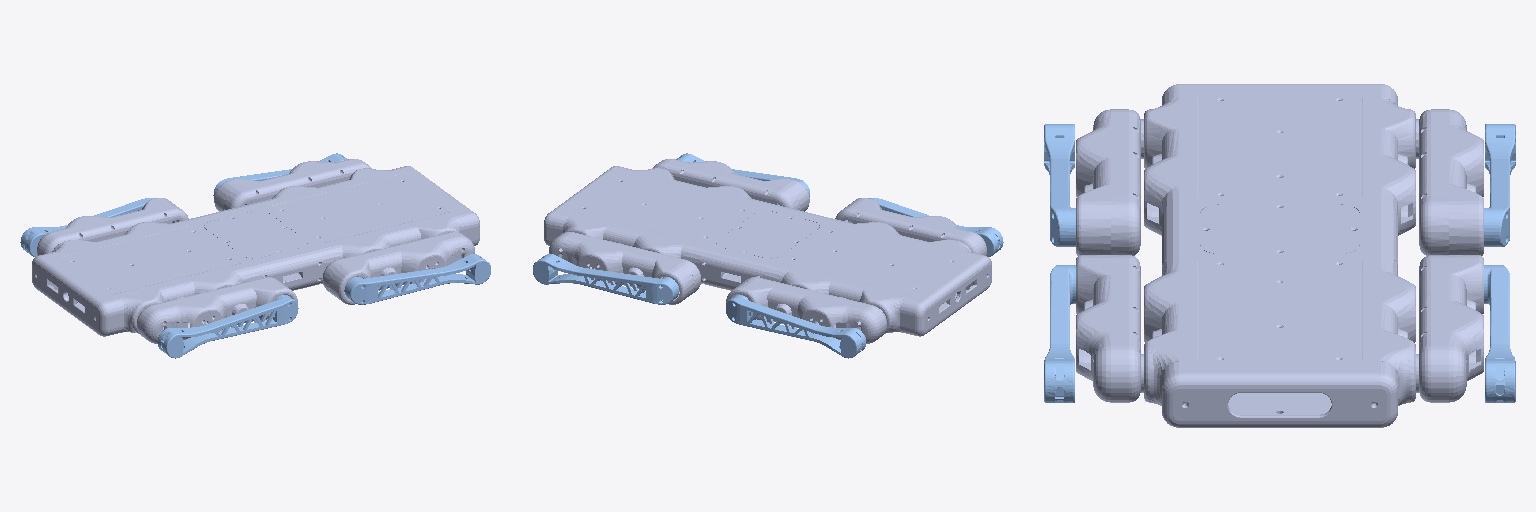
URDF robot description (quadruped_model):
<?xml version="1.0"?>
<!-- This URDF was automatically created by SolidWorks to URDF Exporter! Originally created by [author] ([email redacted]) 
     Commit Version: 1.6.0-4-g7f85cfe  Build Version: 1.6.7995.38578
     For more information, please see http://wiki.ros.org/sw_urdf_exporter -->
<robot
  name="quadruped_model">
  <link
    name="base_link">
    <inertial>
      <origin
        xyz="-0.000327075344292646 5.887146671546E-08 0.0001873336015729"
        rpy="0 0 0" />
      <mass
        value="1.97175001857781" />
      <inertia
        ixx="0.00413387278213243"
        ixy="-1.56194941232084E-09"
        ixz="-1.96374205989058E-08"
        iyy="0.00605141396216075"
        iyz="-3.45220573999436E-07"
        izz="0.00928842475387559" />
    </inertial>
    <visual>
      <origin
        xyz="0 0 0"
        rpy="0 0 0" />
      <geometry>
        <mesh
          filename="package://quadruped_model/meshes/base_link.STL" />
      </geometry>
      <material
        name="">
        <color
          rgba="0.792156862745098 0.819607843137255 0.933333333333333 1" />
      </material>
    </visual>
    <collision>
      <origin
        xyz="0 0 0"
        rpy="0 0 0" />
      <geometry>
        <mesh
          filename="package://quadruped_model/meshes/base_link.STL" />
      </geometry>
    </collision>
  </link>
  <link
    name="leg_FR_link">
    <inertial>
      <origin
        xyz="-0.0826857446272123 -0.000241480390849952 8.61590309820734E-06"
        rpy="0 0 0" />
      <mass
        value="0.178221234723265" />
      <inertia
        ixx="8.7774873338312E-05"
        ixy="-8.34374726245329E-05"
        ixz="1.21556979202137E-07"
        iyy="0.000765734511756799"
        iyz="-3.67993252244105E-09"
        izz="0.000759166889022901" />
    </inertial>
    <visual>
      <origin
        xyz="0 0 0"
        rpy="0 0 0" />
      <geometry>
        <mesh
          filename="package://quadruped_model/meshes/leg_FR_link.STL" />
      </geometry>
      <material
        name="">
        <color
          rgba="0.792156862745098 0.819607843137255 0.933333333333333 1" />
      </material>
    </visual>
    <collision>
      <origin
        xyz="0 0 0"
        rpy="0 0 0" />
      <geometry>
        <mesh
          filename="package://quadruped_model/meshes/leg_FR_link.STL" />
      </geometry>
    </collision>
  </link>
  <joint
    name="leg_FR_joint"
    type="continuous">
    <origin
      xyz="0.23462 -0.13975 0.00072724"
      rpy="0 0 0" />
    <parent
      link="base_link" />
    <child
      link="leg_FR_link" />
    <axis
      xyz="0 1 0" />
  </joint>
  <link
    name="foot_FR_link">
    <inertial>
      <origin
        xyz="0.092342 -0.0053069 -0.0035803"
        rpy="0 0 0" />
      <mass
        value="0.083275" />
      <inertia
        ixx="1.7371E-05"
        ixy="2.5453E-05"
        ixz="1.755E-05"
        iyy="0.00046982"
        iyz="-9.8665E-07"
        izz="0.0004723" />
    </inertial>
    <visual>
      <origin
        xyz="0 0 0"
        rpy="0 0 0" />
      <geometry>
        <mesh
          filename="package://quadruped_model/meshes/foot_FR_link.STL" />
      </geometry>
      <material
        name="">
        <color
          rgba="0.66667 0.81569 1 1" />
      </material>
    </visual>
    <collision>
      <origin
        xyz="0 0 0"
        rpy="0 0 0" />
      <geometry>
        <mesh
          filename="package://quadruped_model/meshes/foot_FR_link.STL" />
      </geometry>
    </collision>
  </link>
  <joint
    name="foot_FRjoint"
    type="continuous">
    <origin
      xyz="-0.18217 -0.037449 0.00020128"
      rpy="0 0 0" />
    <parent
      link="leg_FR_link" />
    <child
      link="foot_FR_link" />
    <axis
      xyz="0 -1 0" />
  </joint>
  <link
    name="leg_FL_link">
    <inertial>
      <origin
        xyz="-0.082685744626397 0.000241480390992359 -8.61590307097999E-06"
        rpy="0 0 0" />
      <mass
        value="0.178221234721523" />
      <inertia
        ixx="8.77748733384301E-05"
        ixy="8.34374726246232E-05"
        ixz="-1.21556978984504E-07"
        iyy="0.000765734511753433"
        iyz="-3.679932508201E-09"
        izz="0.00075916688901959" />
    </inertial>
    <visual>
      <origin
        xyz="0 0 0"
        rpy="0 0 0" />
      <geometry>
        <mesh
          filename="package://quadruped_model/meshes/leg_FL_link.STL" />
      </geometry>
      <material
        name="">
        <color
          rgba="0.792156862745098 0.819607843137255 0.933333333333333 1" />
      </material>
    </visual>
    <collision>
      <origin
        xyz="0 0 0"
        rpy="0 0 0" />
      <geometry>
        <mesh
          filename="package://quadruped_model/meshes/leg_FL_link.STL" />
      </geometry>
    </collision>
  </link>
  <joint
    name="leg_FL_joint"
    type="continuous">
    <origin
      xyz="0.23462 0.13975 0.00072724"
      rpy="0 0 0" />
    <parent
      link="base_link" />
    <child
      link="leg_FL_link" />
    <axis
      xyz="0 -1 0" />
  </joint>
  <link
    name="foot_FL_link">
    <inertial>
      <origin
        xyz="0.0923409137149193 0.00530689069377432 -0.00360725485860733"
        rpy="0 0 0" />
      <mass
        value="0.0832749977968765" />
      <inertia
        ixx="1.73992269374018E-05"
        ixy="-2.54522432243975E-05"
        ixz="1.79119469155073E-05"
        iyy="0.000469818870025904"
        iyz="9.94489245925805E-07"
        izz="0.000472270332573074" />
    </inertial>
    <visual>
      <origin
        xyz="0 0 0"
        rpy="0 0 0" />
      <geometry>
        <mesh
          filename="package://quadruped_model/meshes/foot_FL_link.STL" />
      </geometry>
      <material
        name="">
        <color
          rgba="0.666666666666667 0.815686274509804 1 1" />
      </material>
    </visual>
    <collision>
      <origin
        xyz="0 0 0"
        rpy="0 0 0" />
      <geometry>
        <mesh
          filename="package://quadruped_model/meshes/foot_FL_link.STL" />
      </geometry>
    </collision>
  </link>
  <joint
    name="foot_FL_joint"
    type="continuous">
    <origin
      xyz="-0.18217 0.037449 0.00020125"
      rpy="0 0 0" />
    <parent
      link="leg_FL_link" />
    <child
      link="foot_FL_link" />
    <axis
      xyz="0 1 0" />
  </joint>
  <link
    name="leg_BR_link">
    <inertial>
      <origin
        xyz="0.0826857447177423 -0.000241480460783455 -8.61590779272468E-06"
        rpy="0 0 0" />
      <mass
        value="0.178221234390122" />
      <inertia
        ixx="8.77748726433444E-05"
        ixy="8.34374721917653E-05"
        ixz="1.2155695333197E-07"
        iyy="0.000765734511459626"
        iyz="3.67997204974431E-09"
        izz="0.000759166888033231" />
    </inertial>
    <visual>
      <origin
        xyz="0 0 0"
        rpy="0 0 0" />
      <geometry>
        <mesh
          filename="package://quadruped_model/meshes/leg_BR_link.STL" />
      </geometry>
      <material
        name="">
        <color
          rgba="0.792156862745098 0.819607843137255 0.933333333333333 1" />
      </material>
    </visual>
    <collision>
      <origin
        xyz="0 0 0"
        rpy="0 0 0" />
      <geometry>
        <mesh
          filename="package://quadruped_model/meshes/leg_BR_link.STL" />
      </geometry>
    </collision>
  </link>
  <joint
    name="leg_BR_joint"
    type="continuous">
    <origin
      xyz="-0.23338 -0.13975 0.00072724"
      rpy="0 0 0" />
    <parent
      link="base_link" />
    <child
      link="leg_BR_link" />
    <axis
      xyz="0 1 0" />
  </joint>
  <link
    name="foot_BR_link">
    <inertial>
      <origin
        xyz="-0.0923409140339695 -0.00530689070203466 -0.00360725491622341"
        rpy="0 0 0" />
      <mass
        value="0.083274998233357" />
      <inertia
        ixx="1.73992270015404E-05"
        ixy="-2.54522432933655E-05"
        ixz="-1.79119472244808E-05"
        iyy="0.000469818871794177"
        iyz="-9.94489258429288E-07"
        izz="0.000472270334294119" />
    </inertial>
    <visual>
      <origin
        xyz="0 0 0"
        rpy="0 0 0" />
      <geometry>
        <mesh
          filename="package://quadruped_model/meshes/foot_BR_link.STL" />
      </geometry>
      <material
        name="">
        <color
          rgba="0.666666666666667 0.815686274509804 1 1" />
      </material>
    </visual>
    <collision>
      <origin
        xyz="0 0 0"
        rpy="0 0 0" />
      <geometry>
        <mesh
          filename="package://quadruped_model/meshes/foot_BR_link.STL" />
      </geometry>
    </collision>
  </link>
  <joint
    name="foot_BR_joint"
    type="continuous">
    <origin
      xyz="0.18217 -0.037449 0.00020125"
      rpy="0 0 0" />
    <parent
      link="leg_BR_link" />
    <child
      link="foot_BR_link" />
    <axis
      xyz="0 -1 0" />
  </joint>
  <link
    name="leg_BL_link">
    <inertial>
      <origin
        xyz="0.0826857447177424 0.000241480460783372 8.61590779267177E-06"
        rpy="0 0 0" />
      <mass
        value="0.178221234390122" />
      <inertia
        ixx="8.77748726430811E-05"
        ixy="-8.34374721917668E-05"
        ixz="-1.21556953330775E-07"
        iyy="0.000765734511459625"
        iyz="3.6799720498976E-09"
        izz="0.000759166888032966" />
    </inertial>
    <visual>
      <origin
        xyz="0 0 0"
        rpy="0 0 0" />
      <geometry>
        <mesh
          filename="package://quadruped_model/meshes/leg_BL_link.STL" />
      </geometry>
      <material
        name="">
        <color
          rgba="0.792156862745098 0.819607843137255 0.933333333333333 1" />
      </material>
    </visual>
    <collision>
      <origin
        xyz="0 0 0"
        rpy="0 0 0" />
      <geometry>
        <mesh
          filename="package://quadruped_model/meshes/leg_BL_link.STL" />
      </geometry>
    </collision>
  </link>
  <joint
    name="leg_BL_joint"
    type="continuous">
    <origin
      xyz="-0.23338 0.13975 0.00072724"
      rpy="0 0 0" />
    <parent
      link="base_link" />
    <child
      link="leg_BL_link" />
    <axis
      xyz="0 -1 0" />
  </joint>
  <link
    name="foot_BL_link">
    <inertial>
      <origin
        xyz="-0.0923419406342053 0.00530688967822675 -0.00358028192965327"
        rpy="0 0 0" />
      <mass
        value="0.0832749890421821" />
      <inertia
        ixx="1.73709950239305E-05"
        ixy="2.54525599387942E-05"
        ixz="-1.75497249118956E-05"
        iyy="0.000469818716337466"
        iyz="9.86649841263403E-07"
        izz="0.000472298412305655" />
    </inertial>
    <visual>
      <origin
        xyz="0 0 0"
        rpy="0 0 0" />
      <geometry>
        <mesh
          filename="package://quadruped_model/meshes/foot_BL_link.STL" />
      </geometry>
      <material
        name="">
        <color
          rgba="0.666666666666667 0.815686274509804 1 1" />
      </material>
    </visual>
    <collision>
      <origin
        xyz="0 0 0"
        rpy="0 0 0" />
      <geometry>
        <mesh
          filename="package://quadruped_model/meshes/foot_BL_link.STL" />
      </geometry>
    </collision>
  </link>
  <joint
    name="foot_BL_joint"
    type="continuous">
    <origin
      xyz="0.18217 0.037449 0.00020128"
      rpy="0 0 0" />
    <parent
      link="leg_BL_link" />
    <child
      link="foot_BL_link" />
    <axis
      xyz="0 1 0" />
  </joint>
</robot>

--- What the picture shows (computed from the rendered views, not written in the file) ---
The picture shows the robot from 3 angles, left to right: view 1: azimuth 30°, elevation 25°; view 2: azimuth 150°, elevation 25°; view 3: azimuth 270°, elevation 25°; orthographic projection.
Robot: quadruped_model — 9 links, 8 joints (8 continuous); root link base_link; default pose: all joints at 0.
Links seen in each view (by area): view 1: base_link, leg_BR_link, leg_FR_link, foot_FR_link, leg_FL_link, foot_BR_link, leg_BL_link, foot_BL_link, foot_FL_link; view 2: base_link, leg_BL_link, leg_FL_link, foot_FL_link, leg_FR_link, foot_BL_link, leg_BR_link, foot_BR_link, foot_FR_link; view 3: base_link, leg_FR_link, leg_FL_link, leg_BR_link, leg_BL_link, foot_FR_link, foot_FL_link, foot_BR_link, foot_BL_link.
Boxes of the visible links, box(x1,y1,x2,y2) form: base_link: box(32, 166, 479, 336); leg_BR_link: box(137, 277, 297, 343); leg_FR_link: box(323, 232, 474, 304); foot_FR_link: box(344, 254, 490, 304); leg_FL_link: box(214, 159, 370, 211); foot_BR_link: box(158, 295, 298, 358); leg_BL_link: box(37, 198, 188, 255); foot_BL_link: box(20, 198, 175, 256); foot_FL_link: box(213, 153, 347, 205); base_link: box(544, 166, 991, 336); leg_BL_link: box(726, 277, 886, 343); leg_FL_link: box(549, 232, 700, 304); foot_FL_link: box(533, 254, 679, 304); leg_FR_link: box(653, 159, 809, 211); foot_BL_link: box(726, 295, 865, 358); leg_BR_link: box(835, 198, 986, 255); foot_BR_link: box(848, 198, 1003, 256); foot_FR_link: box(676, 153, 809, 205); base_link: box(1144, 84, 1415, 427); leg_FR_link: box(1076, 255, 1143, 402); leg_FL_link: box(1416, 255, 1483, 402); leg_BR_link: box(1076, 109, 1143, 255); leg_BL_link: box(1416, 109, 1483, 255); foot_FR_link: box(1044, 265, 1075, 402); foot_FL_link: box(1484, 265, 1515, 402); foot_BR_link: box(1044, 124, 1075, 246); foot_BL_link: box(1484, 124, 1515, 246).
Bounding box of the posed robot: 0.596 × 0.398 × 0.0503 m (x, y, z).
9 mesh visuals loaded from 9 distinct referenced files (9 binary STL).